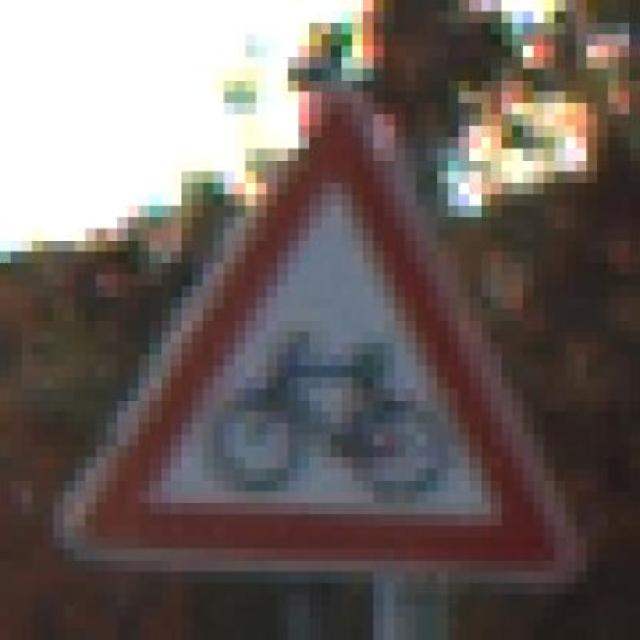CYCLE ROUTE AHEAD WARNING: (53, 68, 587, 594)
